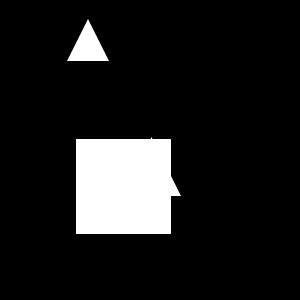circle: (76, 139, 171, 234)
triangle: (122, 137, 181, 196), (67, 19, 109, 61)
